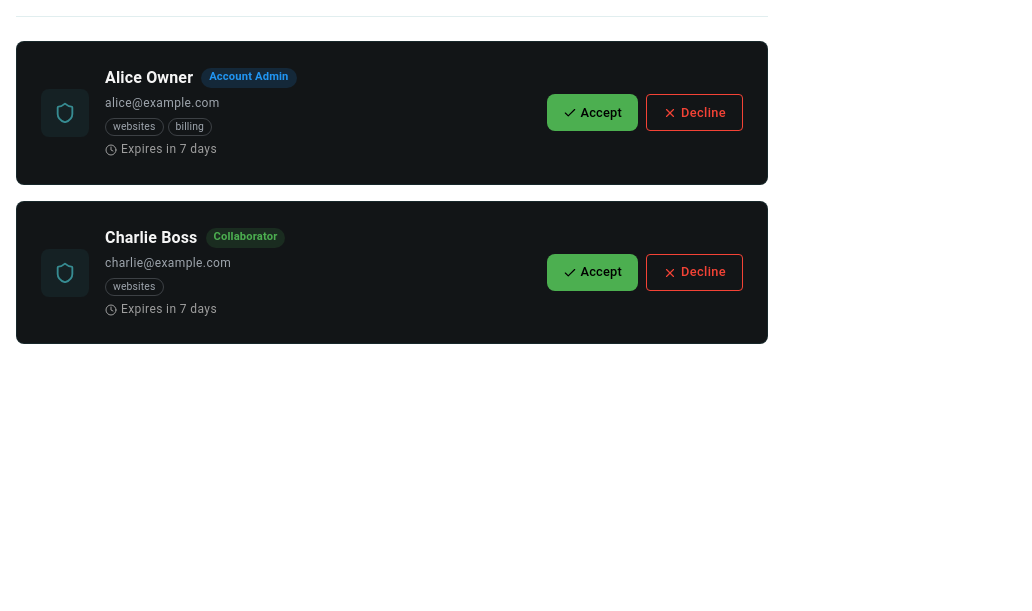
Scenario: AccountInvitesPage › accept invite refreshes list on success
expect the element with test id "account-invites-list" is shown: met, box [16,41,768,344]
Click the button with test id "accept-btn-1".
click(592, 113)  # box [546,94,638,131]
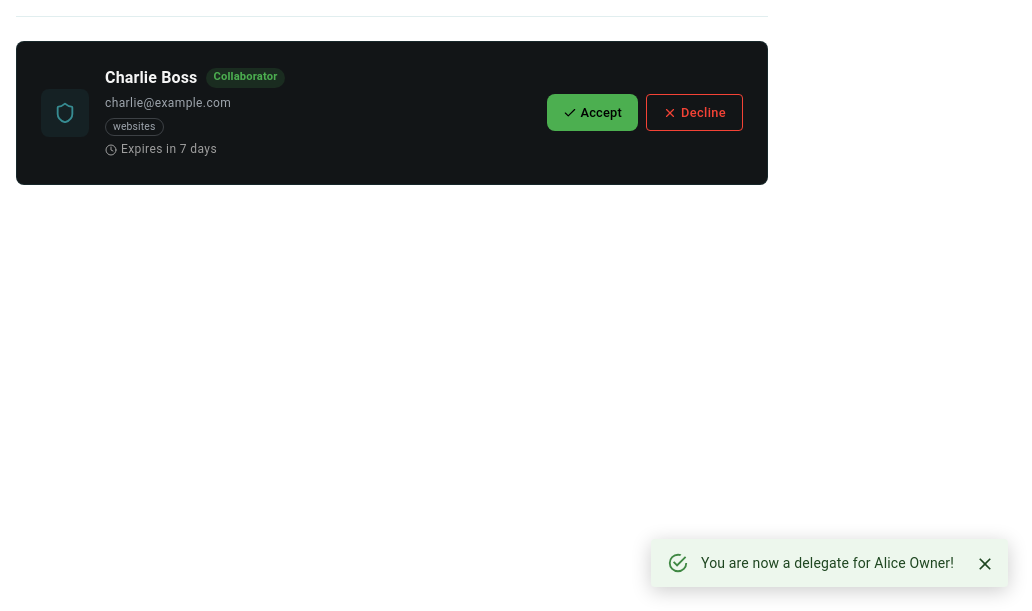
expect the number of elements with test id "account-invite-card" is 1: met, box [16,41,768,185]
